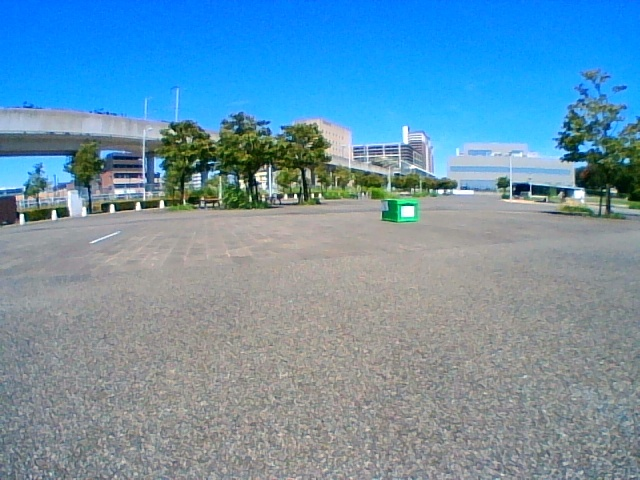green_box: (382, 199, 417, 222)
tag: (383, 201, 388, 210)
